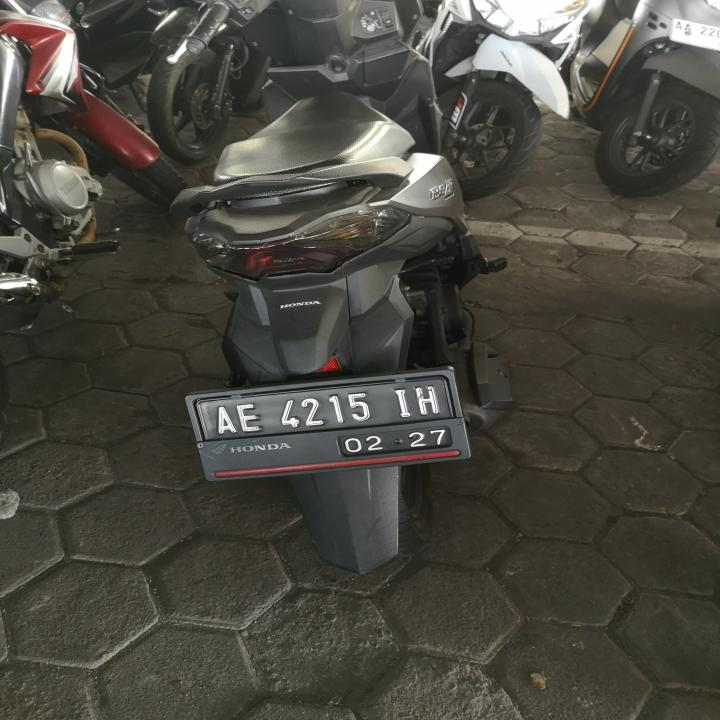plate: (193, 376, 461, 461)
